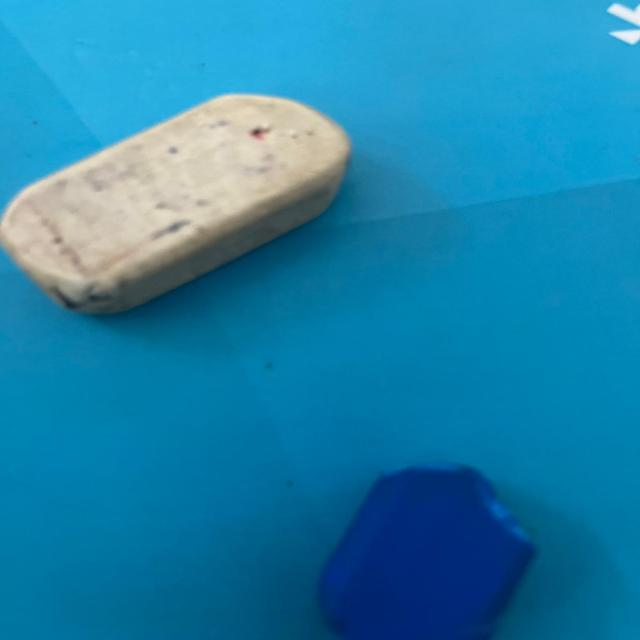eraser: (9, 82, 364, 329), (301, 457, 547, 640)
